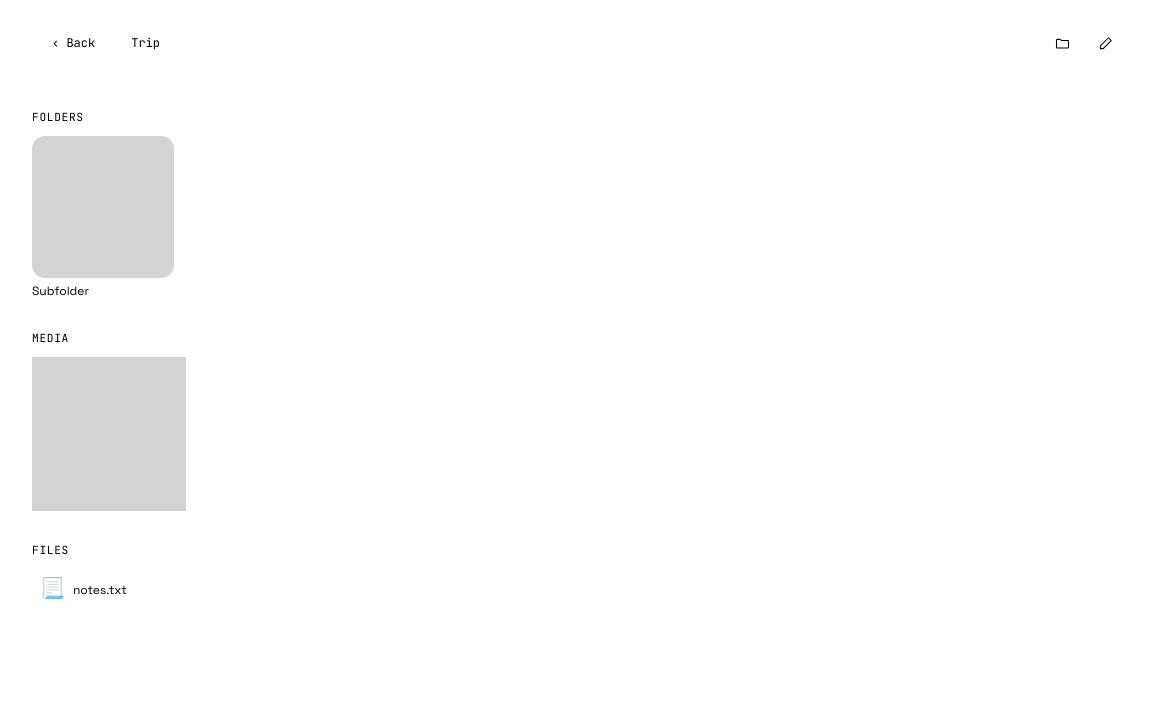
FullPageView › renders a folder placeholder icon when a subfolder has no cover thumbnail
Click the text "Subfolder" at (103, 218), box [32,136,174,299]
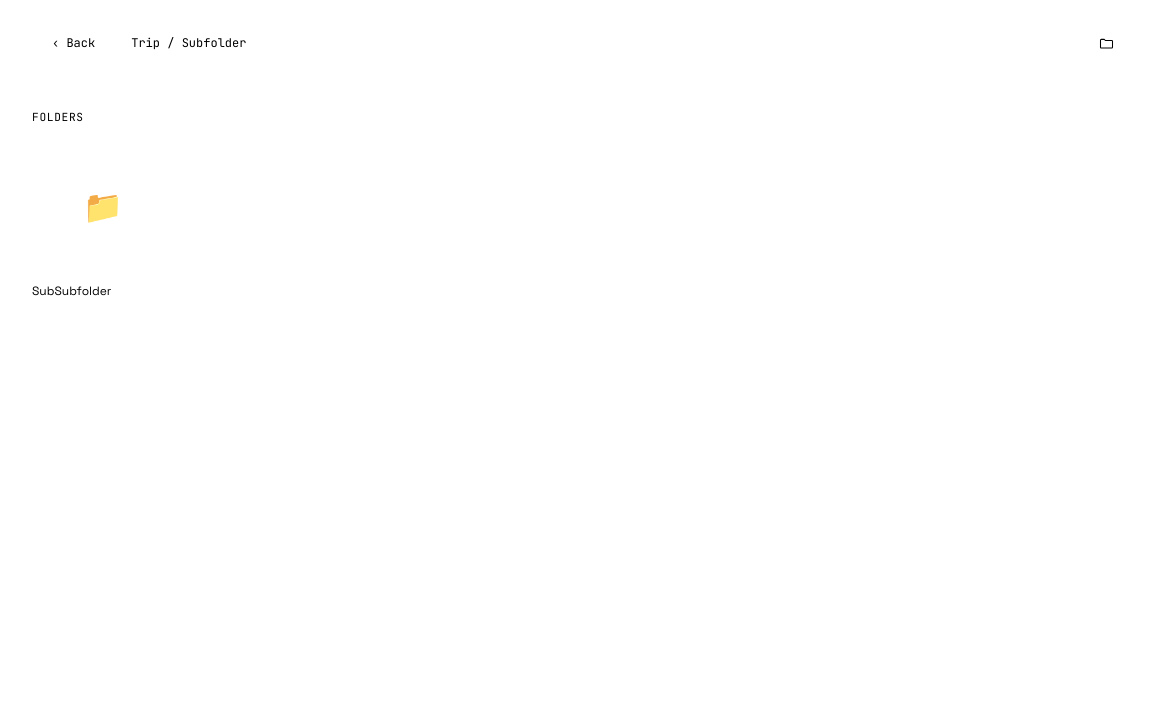
expect the picture is gone: met
